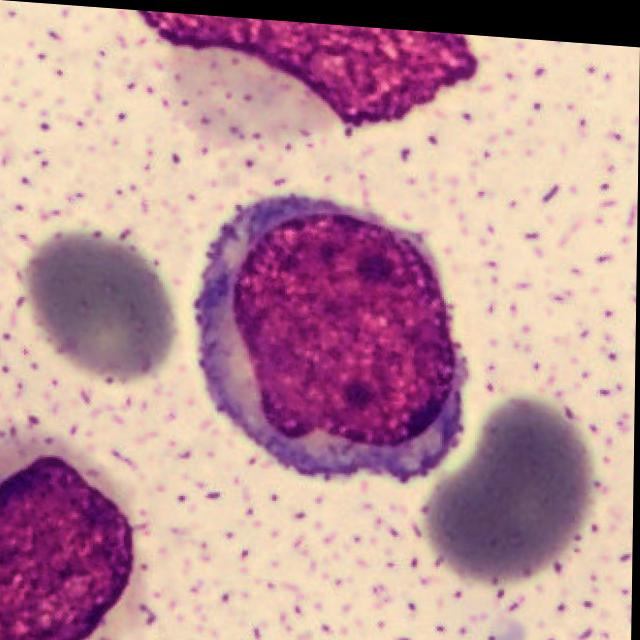Mieloblasto: (194, 193, 466, 477)
Restos celulares: (134, 8, 479, 126), (0, 457, 137, 640)
